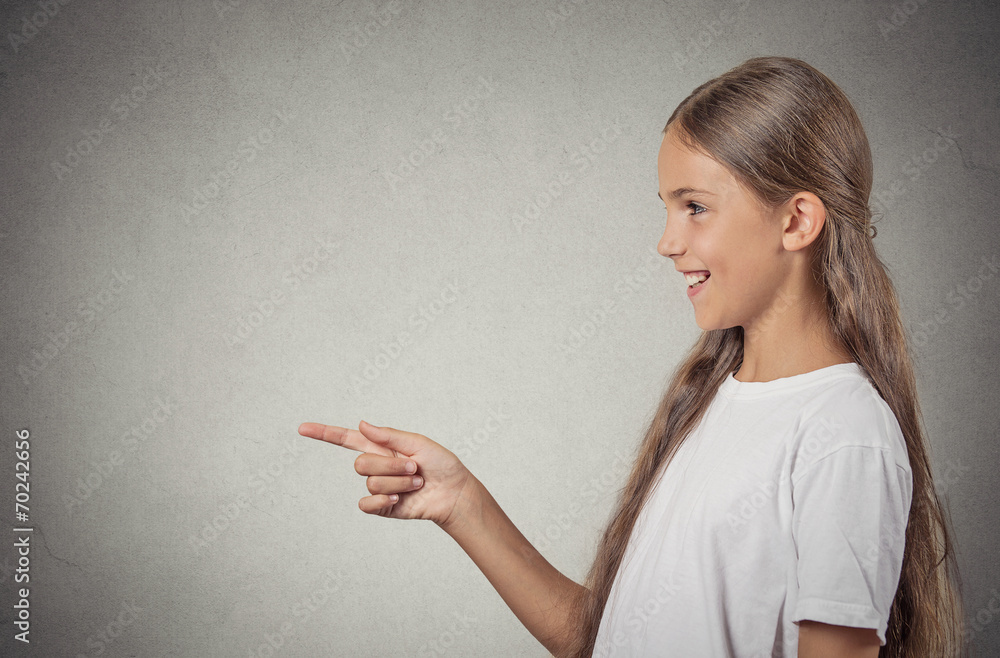pointing_gesture: (290, 414, 473, 538)
